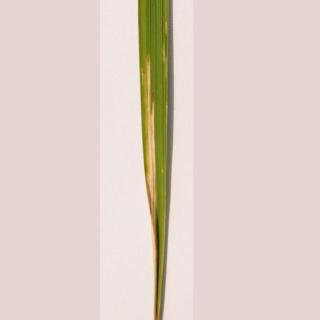Hawar-Daun: (126, 68, 169, 223)
